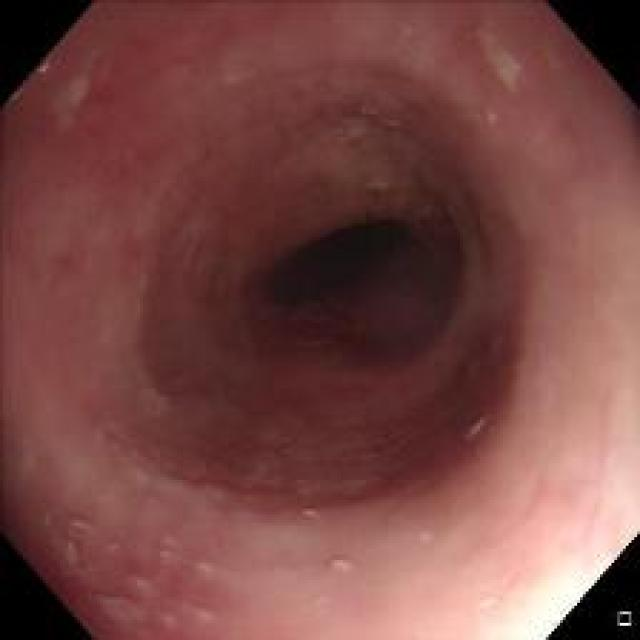color misalignment: (45, 42, 61, 65)
contrast: (270, 219, 406, 315)
saturation: (478, 502, 636, 638)
